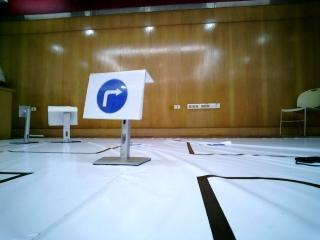right: (90, 74, 135, 117)
